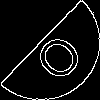O: (25, 25, 87, 85)
